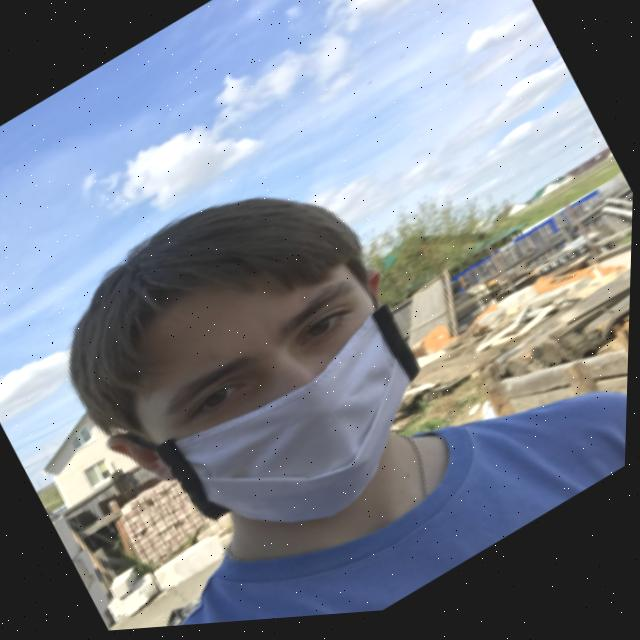Mask: (97, 265, 479, 616)
